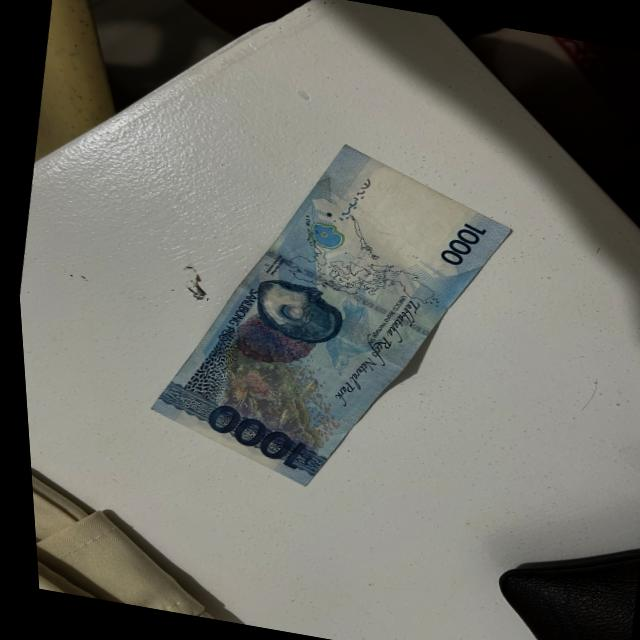1000_pearl: (251, 282, 340, 347)
1000_pearl_watermark: (307, 220, 343, 253)
